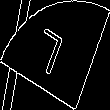L_SW: (36, 26, 74, 84)
